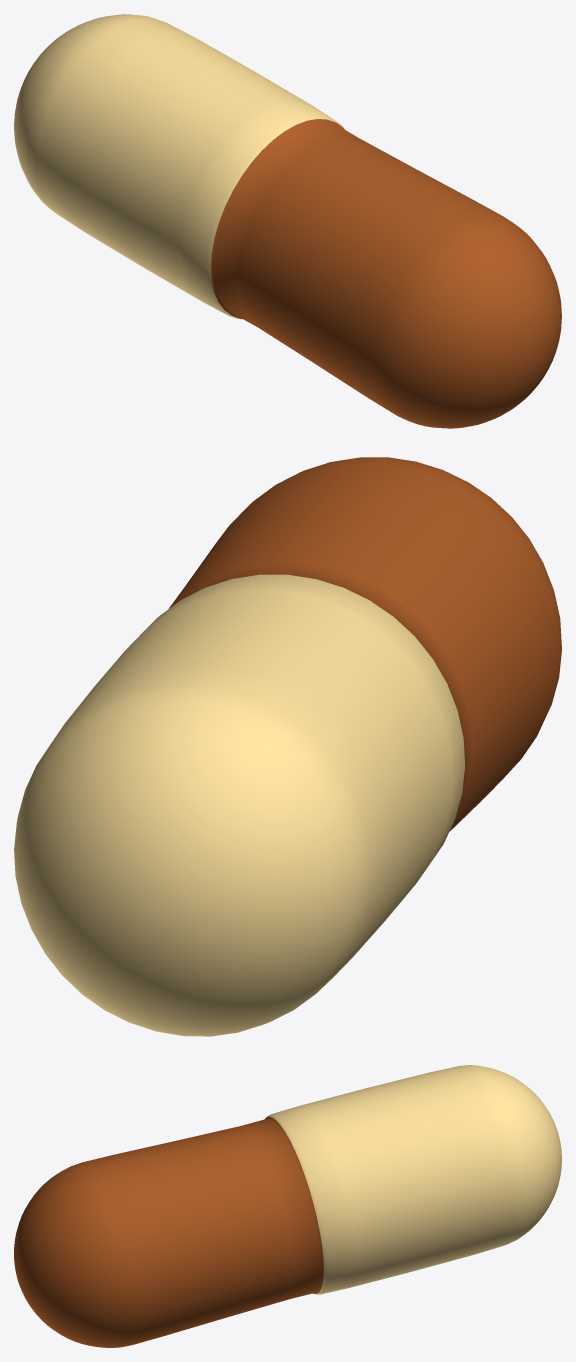
The model's file is gold.glb.
3 renders of one model, top to bottom at view 1: azimuth 30°, elevation 25°; view 2: azimuth 150°, elevation 25°; view 3: azimuth 270°, elevation 25°, orthographic. The views are drawn at different scales.
Visible parts, largest first — view 1: PAT.003; view 2: PAT.003; view 3: PAT.003.
Part boxes in pixels (x1=…): PAT.003: x1=14, y1=14, x2=561, y2=428; PAT.003: x1=14, y1=457, x2=561, y2=1036; PAT.003: x1=14, y1=1065, x2=561, y2=1347.
Bounding box in the file's own units: 1.27 × 1.05 × 2.37.
Materials: 2 (1 with a texture image).
